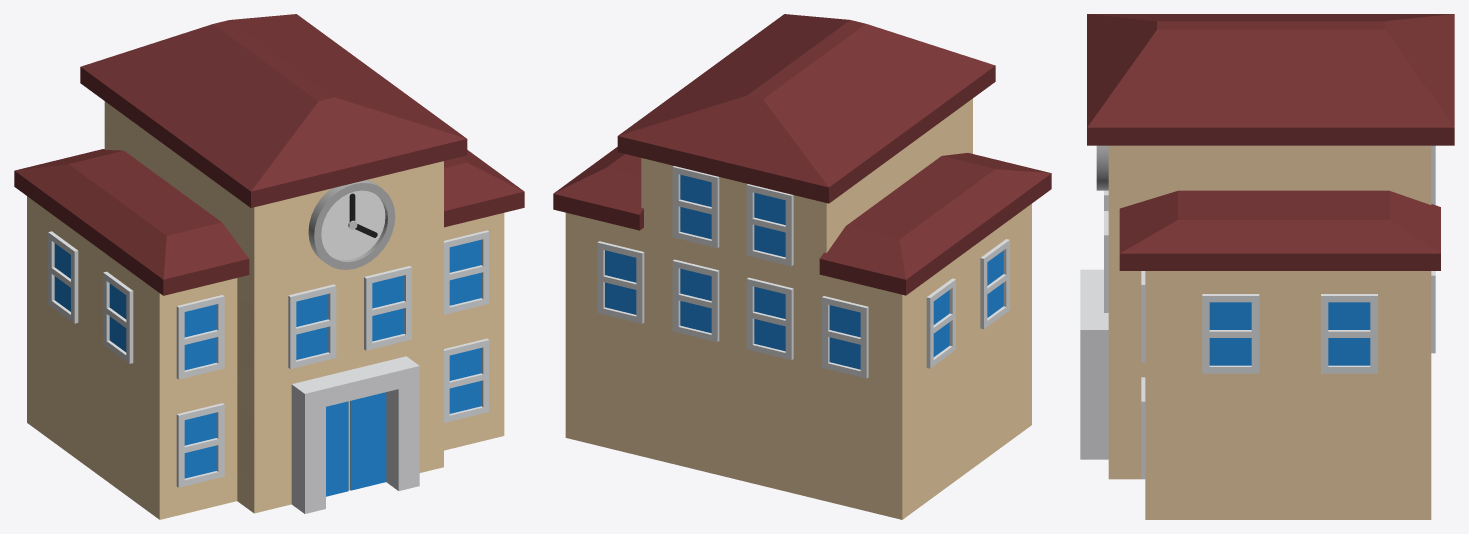
Rendered from school.glb.
3 views of the same model, side by side, from view 1: azimuth 30°, elevation 25°; view 2: azimuth 150°, elevation 25°; view 3: azimuth 270°, elevation 25° (orthographic). The views are drawn at different scales.
Visible parts, largest first — view 1: Cube.494; view 2: Cube.494; view 3: Cube.494.
Boxes of the visible parts, <box> form: Cube.494: <box>14,14,524,519</box>; Cube.494: <box>553,14,1051,519</box>; Cube.494: <box>1080,14,1454,519</box>.
Bounding box in the file's own units: 2.02 × 2.01 × 1.69.
1 material, 1 textured.
